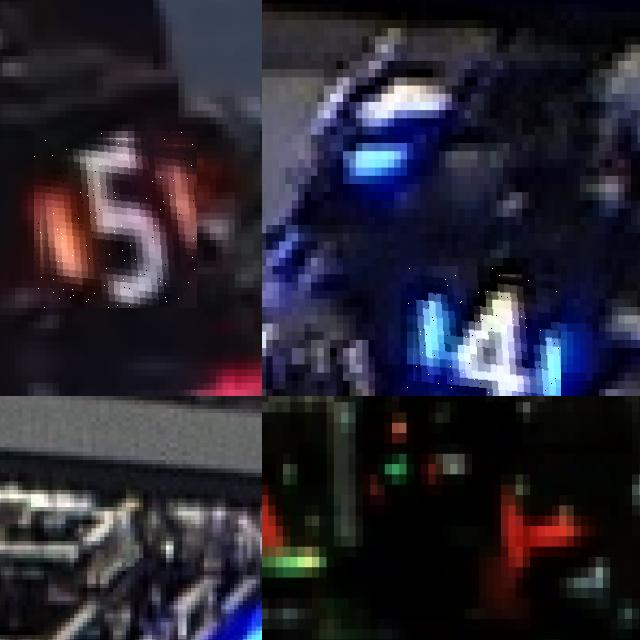B4: (407, 266, 560, 396)
R5: (34, 131, 197, 308)
